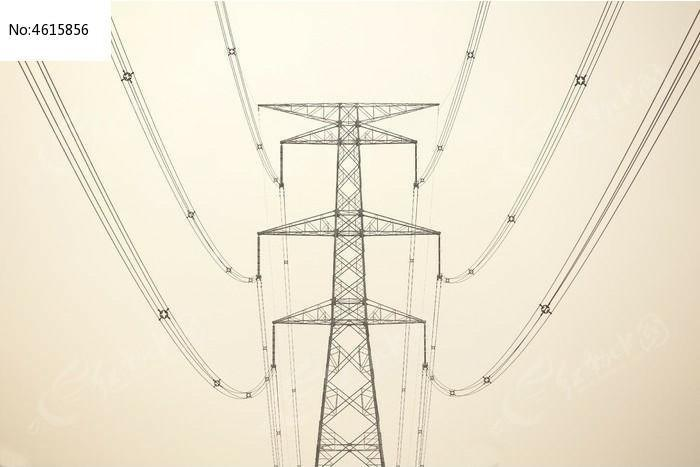power_tower: (235, 98, 451, 467)
